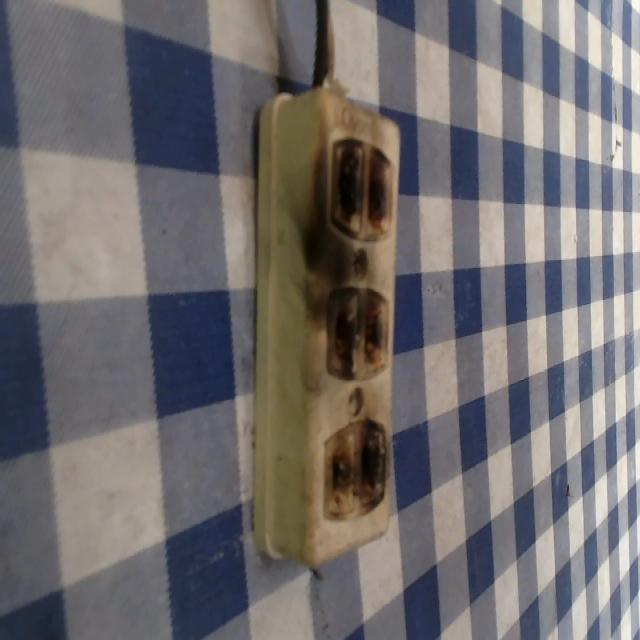-: (317, 415, 390, 520), (326, 136, 395, 243), (321, 281, 390, 379)
